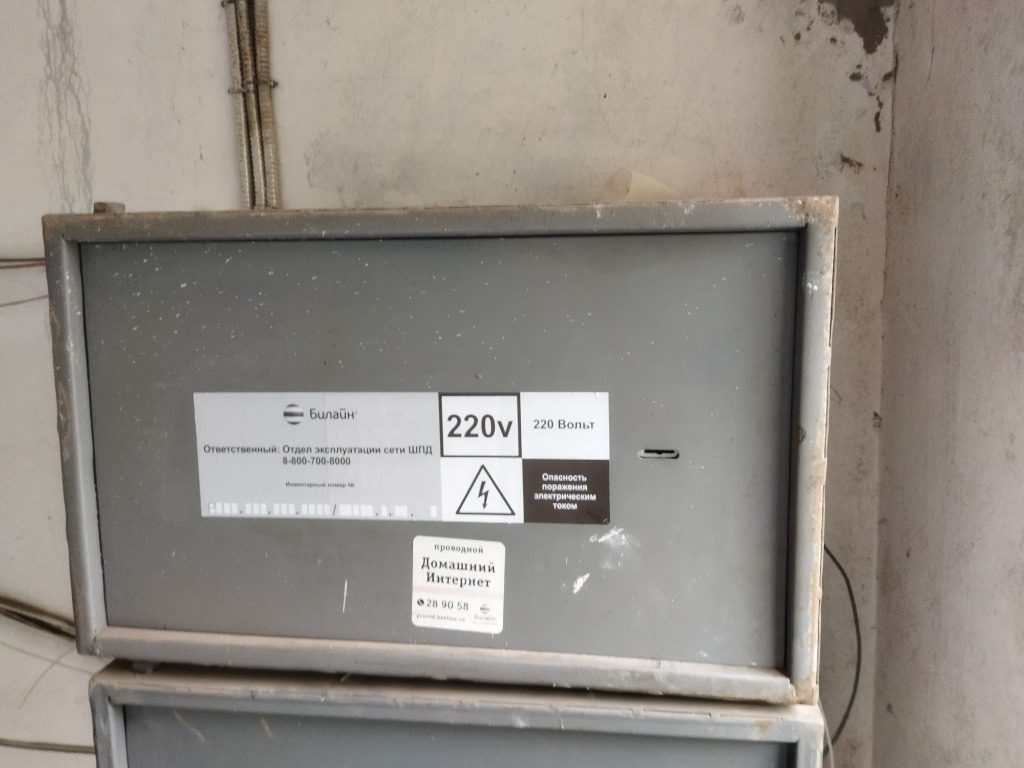e2-6u: (34, 193, 837, 704)
